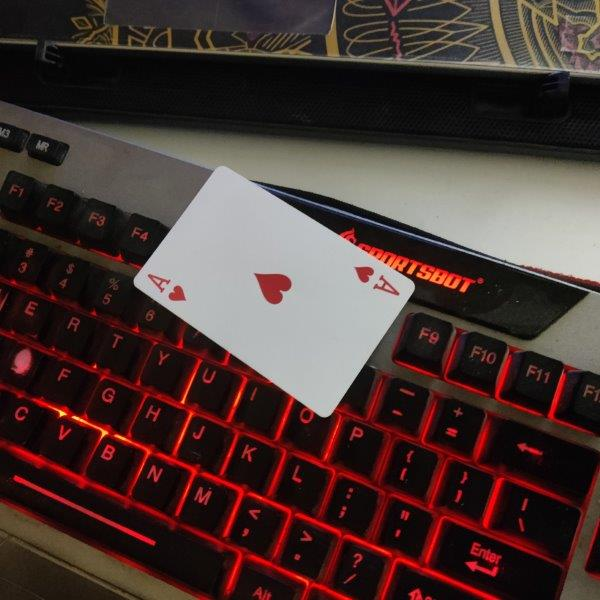Ace of Hearts: (132, 165, 416, 419)
